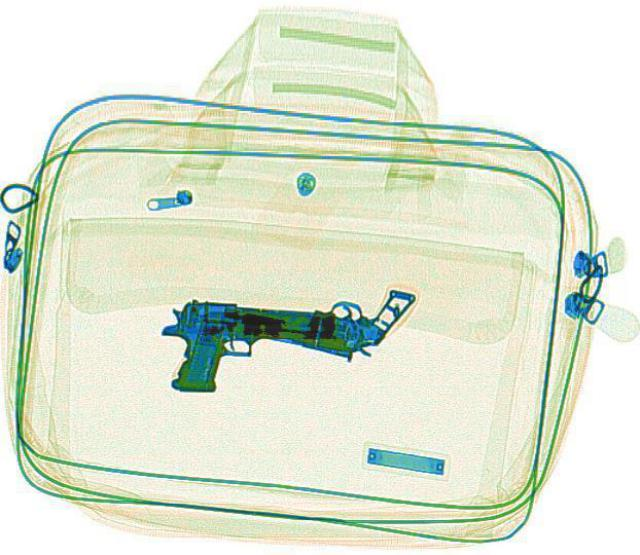Gun: (220, 252, 414, 367), (152, 296, 350, 402)
